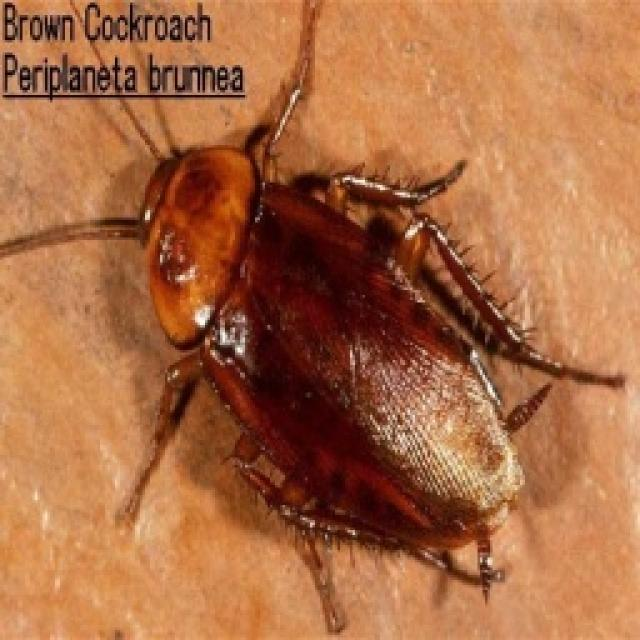cockroach: (55, 84, 640, 640)
